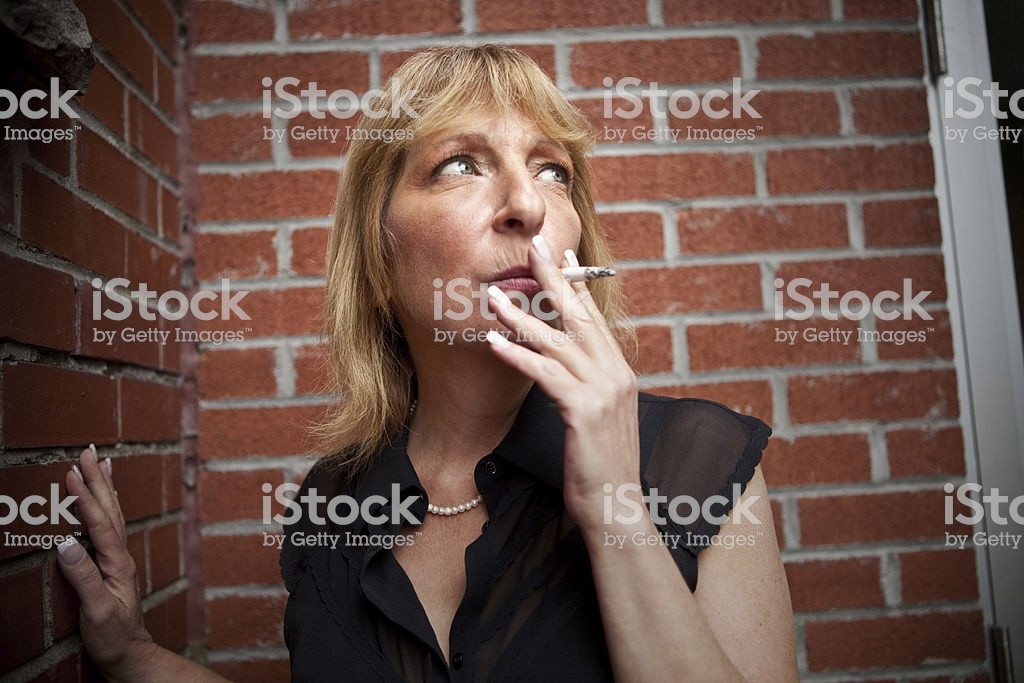sigaretta: (546, 261, 626, 283)
